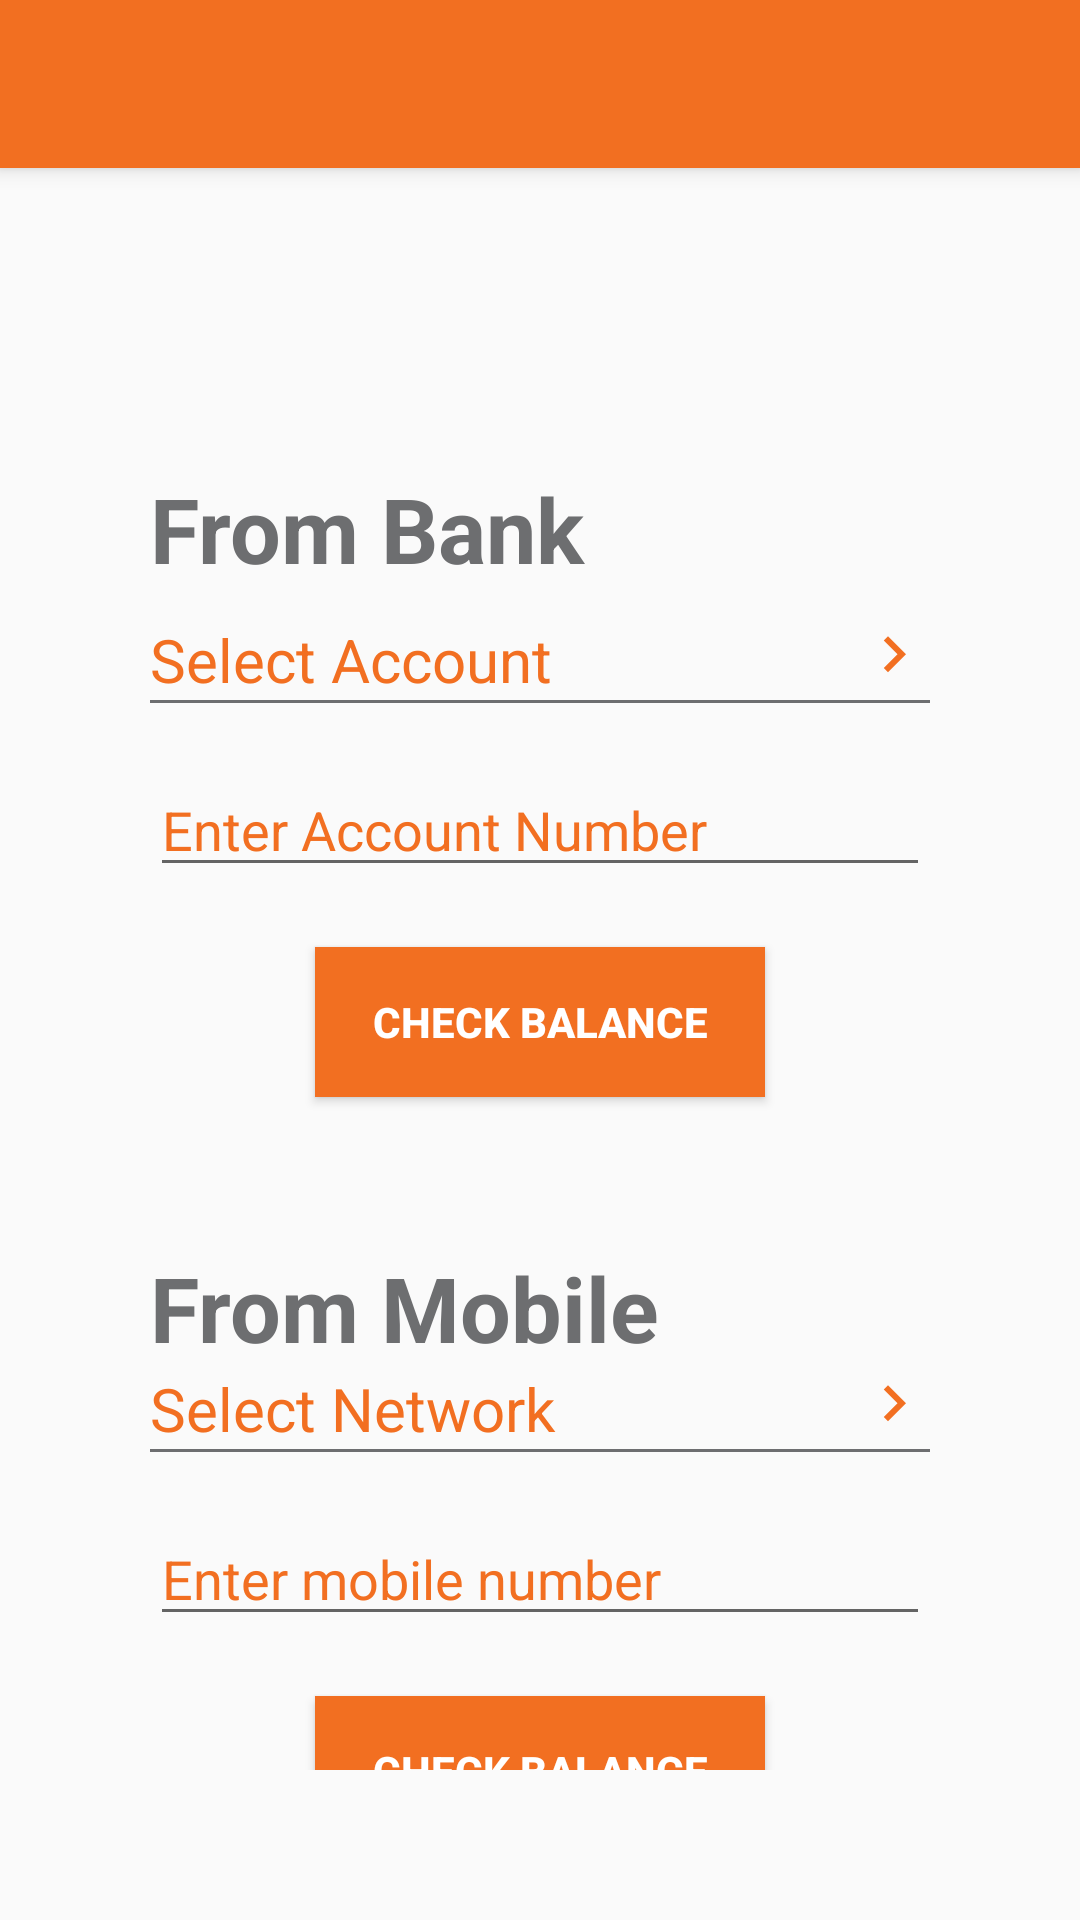

Named icons in this screenshot (1080 x 1920) and their bounding boxes, (x1, y1, x2, y2):
arrow right: (884, 636, 906, 672), (884, 1385, 906, 1421)
